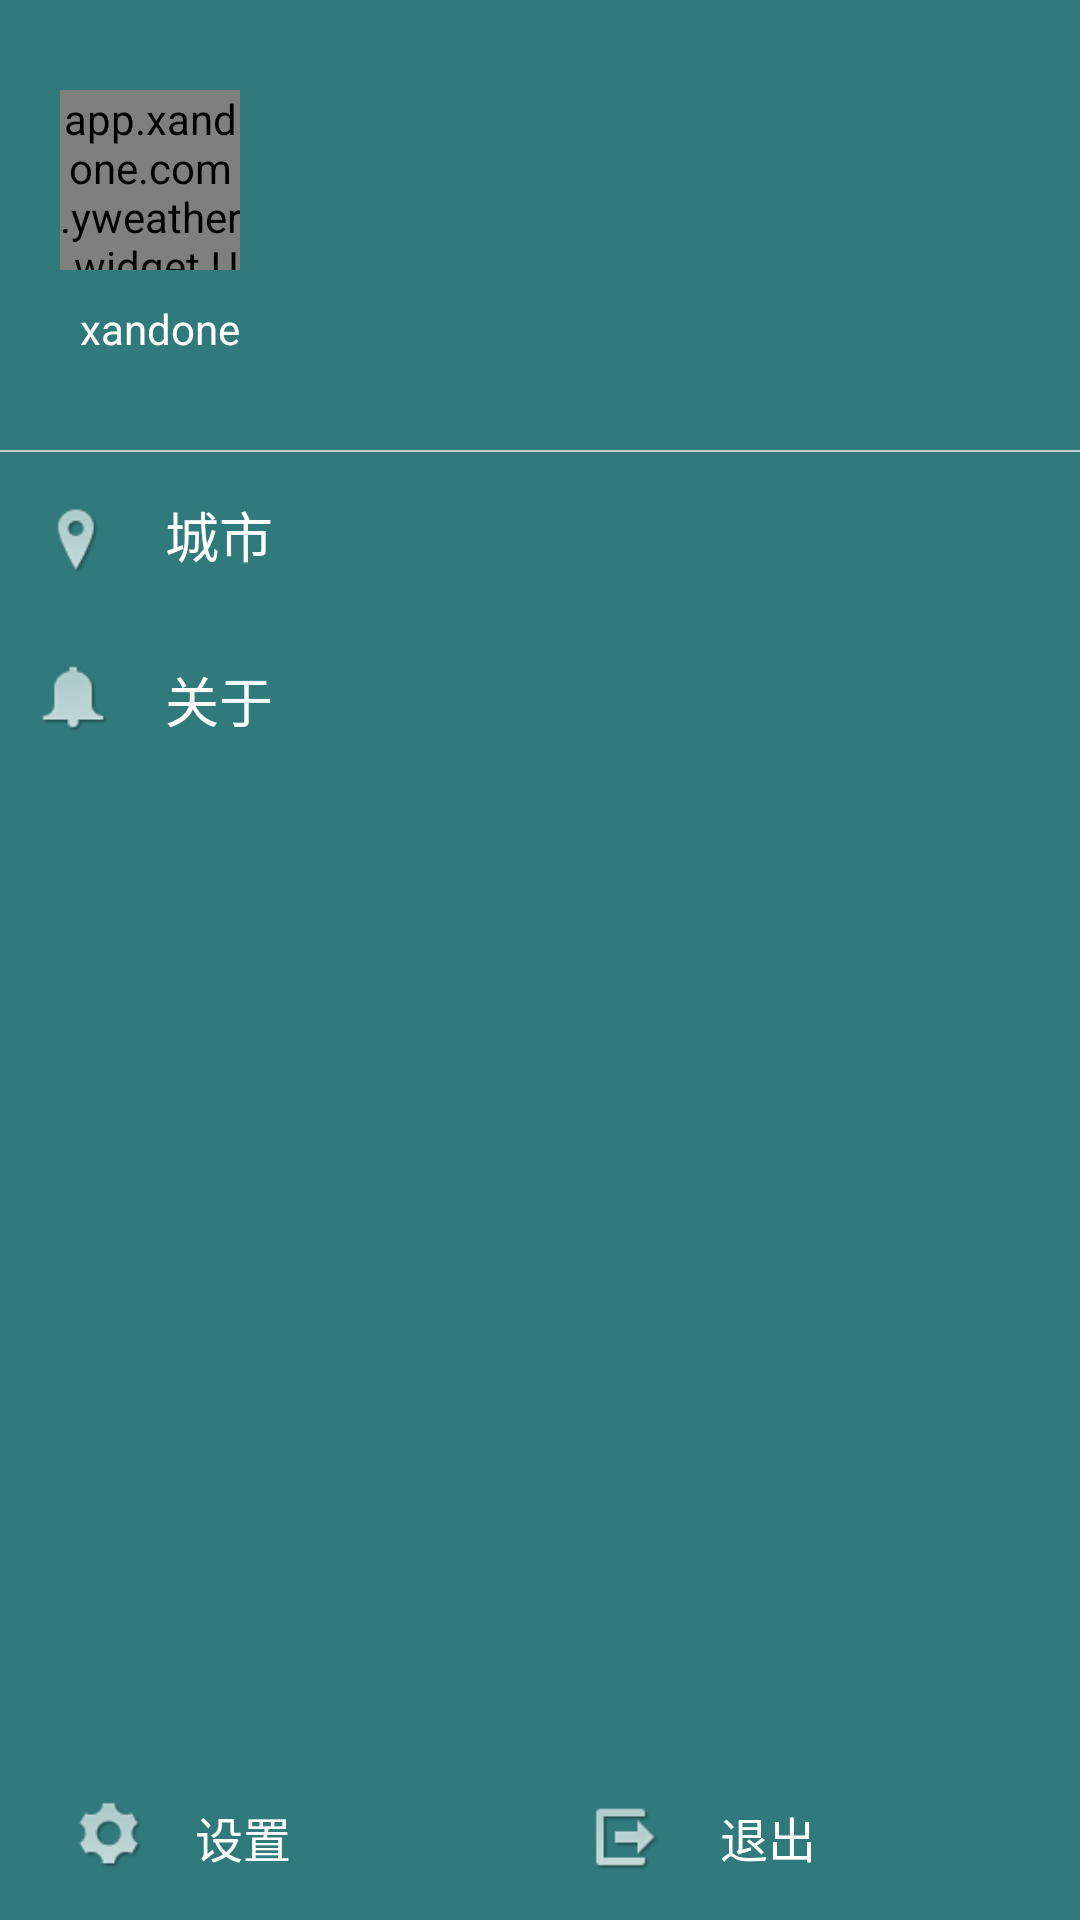

Where icons sit on this 1080px×1920px app screen, as (x1, y1, x2, y2):
location: (58, 509, 96, 570)
out: (596, 1808, 655, 1867)
set: (79, 1803, 139, 1865)
